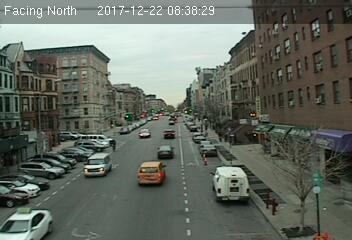car: (136, 160, 165, 185), (156, 144, 174, 159), (199, 143, 217, 156), (139, 128, 151, 138), (163, 129, 175, 138)
truck: (207, 164, 253, 202), (84, 152, 113, 177)
